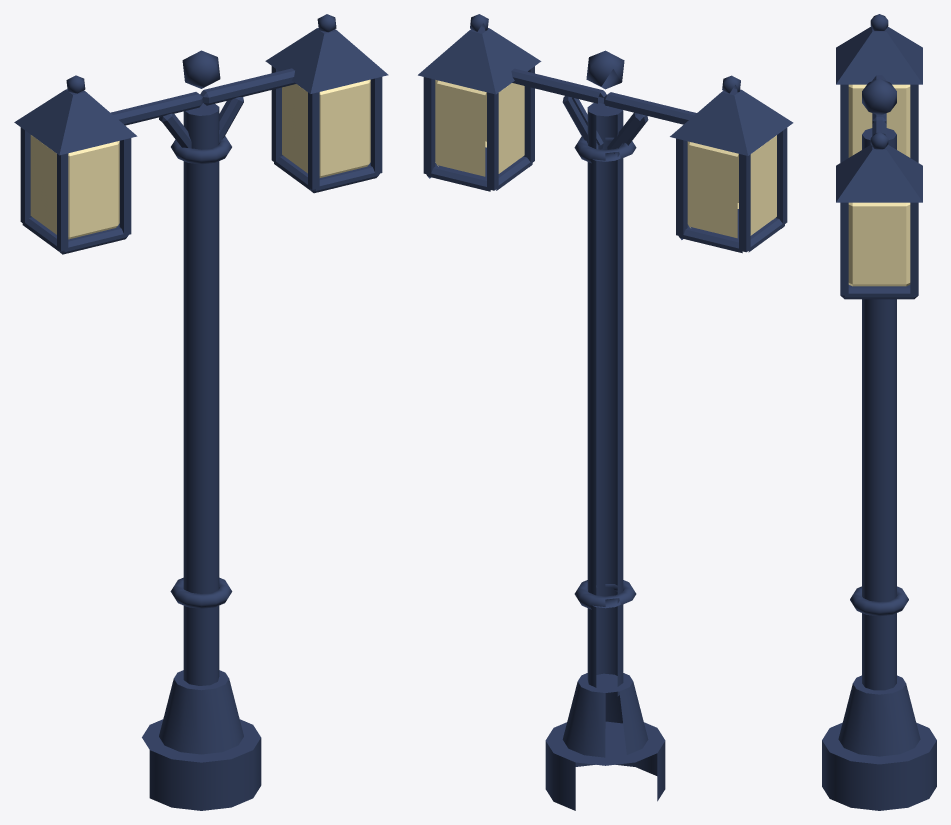
The model's file is ac_lamp.glb.
The picture shows the model from 3 angles, left to right: view 1: azimuth 30°, elevation 25°; view 2: azimuth 150°, elevation 25°; view 3: azimuth 270°, elevation 25°; orthographic projection. The views are drawn at different scales.
Visible parts, largest first — view 1: cyl; view 2: cyl; view 3: cyl.
Part boxes in pixels (x1,y1,x2,y2): cyl: [14, 14, 388, 810]; cyl: [418, 14, 793, 810]; cyl: [822, 14, 936, 810].
Size of the model in its own units: 1.78 by 3.84 by 0.5599.
